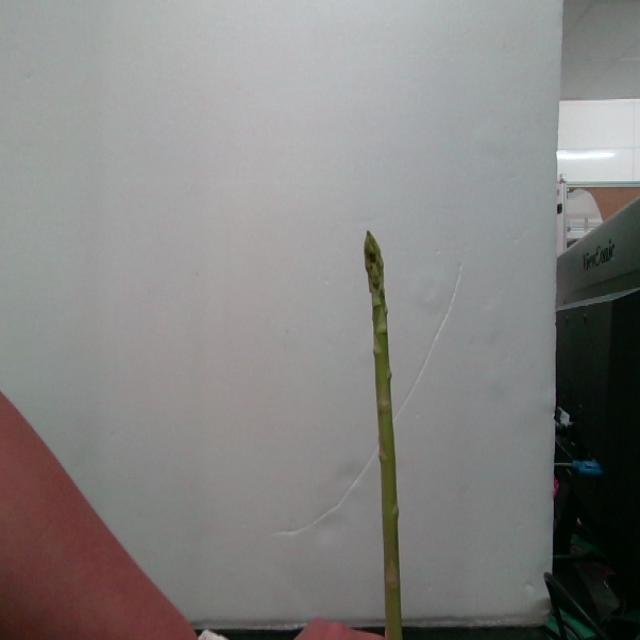aspargus: (362, 234, 402, 640)
